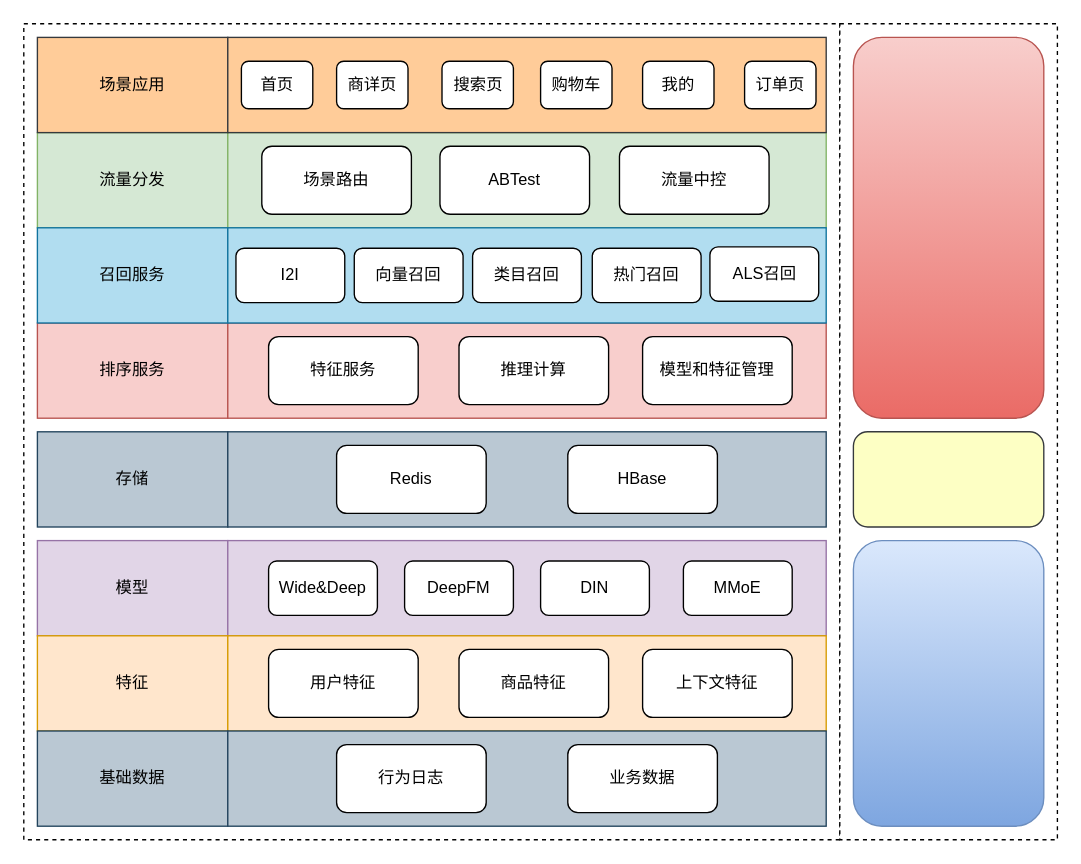
This 1081x864 diagram has some shape labels left out. Each missing label, with the centre of its shape:
"模型和特征存储" goes at point 948,478.
"离线计算 DolphinScheduler Spark Hive Tensorflow PyTorch" goes at point 948,682.
"线上服务 Spring Boot" goes at point 948,227.
